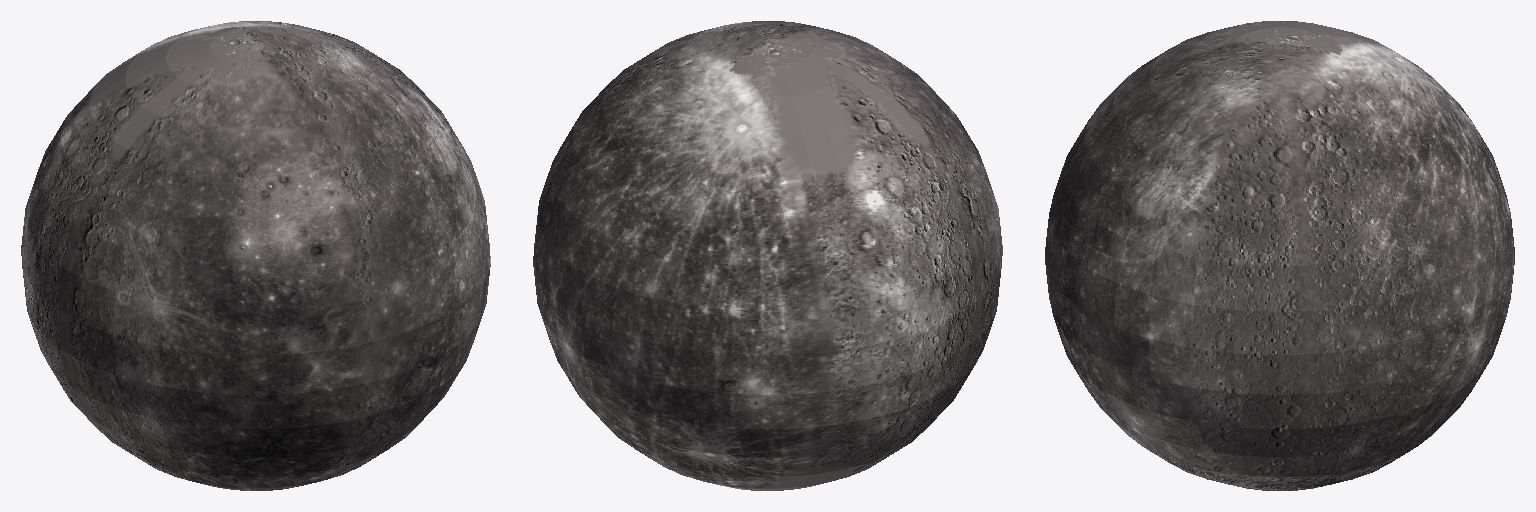
The picture shows the model from 3 angles: view 1: azimuth 30°, elevation 25°; view 2: azimuth 150°, elevation 25°; view 3: azimuth 270°, elevation 25°; orthographic projection.
Parts seen in each view (by area): view 1: Sphere; view 2: Sphere; view 3: Sphere.
Boxes of the visible parts, x1,y1,x2,y2 form: Sphere: [21, 21, 490, 490]; Sphere: [533, 21, 1002, 490]; Sphere: [1045, 21, 1514, 490].
Bounding box in the file's own units: 4.88 × 4.88 × 4.88.
Materials: 1 (1 with a texture image).